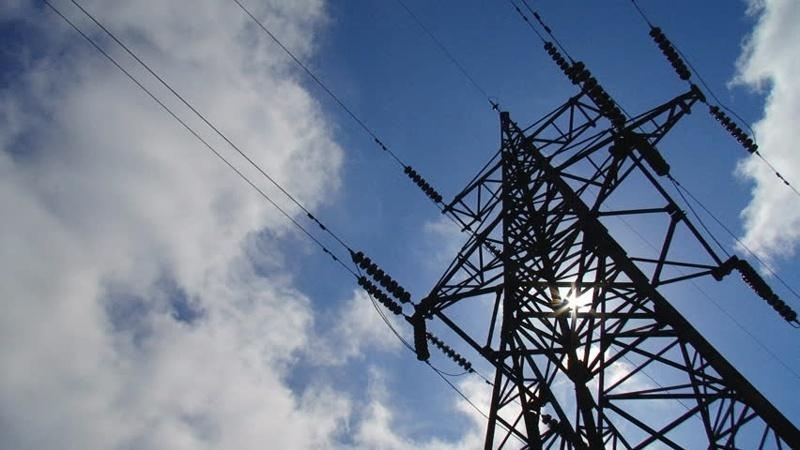power_tower: (347, 27, 800, 450)
